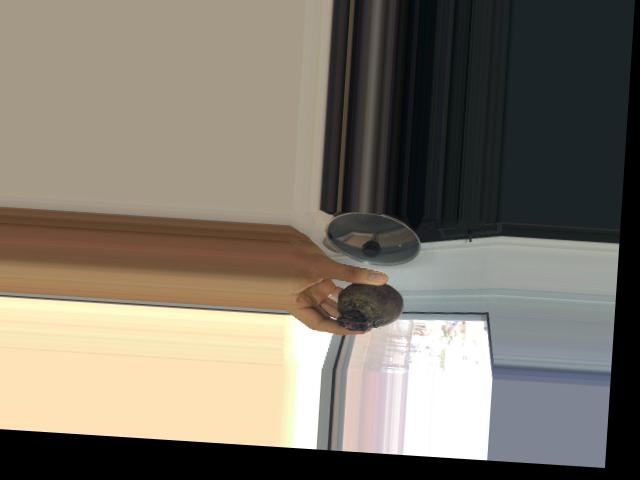beet: (317, 278, 405, 333)
